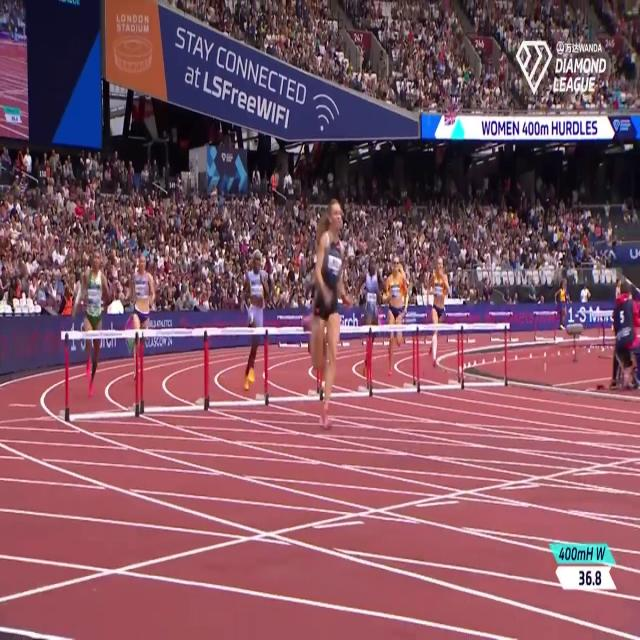athlete: (304, 187, 347, 448), (73, 244, 109, 394), (241, 242, 270, 395), (131, 241, 155, 391), (425, 247, 453, 372), (358, 249, 384, 383), (387, 257, 411, 380)
hurdle: (60, 322, 139, 423), (135, 324, 208, 423), (206, 325, 270, 421), (318, 327, 372, 405), (461, 316, 512, 396), (371, 323, 416, 397), (416, 322, 462, 394)
